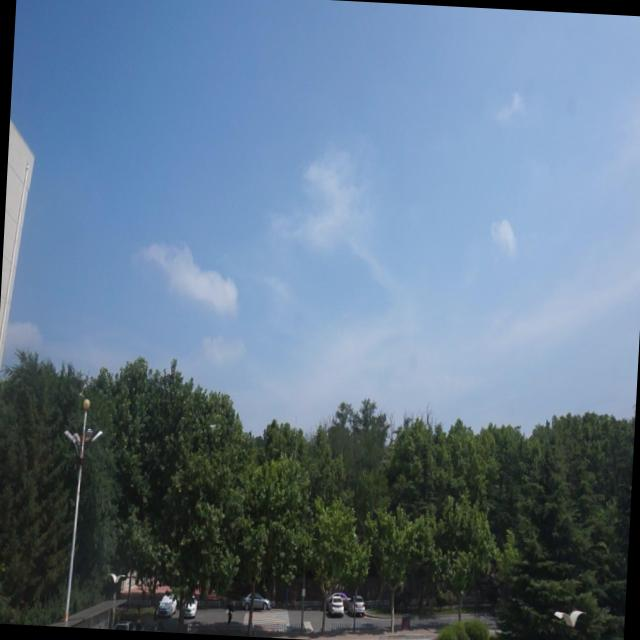drone: (208, 416, 220, 434)
